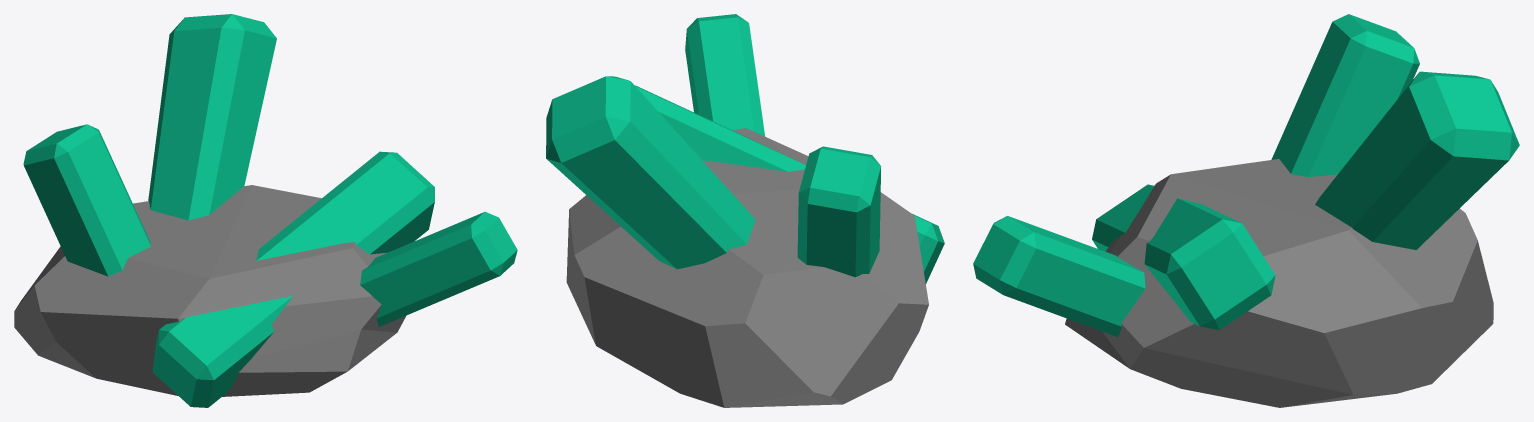
The model's file is MineralNode_14_C.fbx.
3 views of the same model, side by side, from view 1: azimuth 30°, elevation 25°; view 2: azimuth 150°, elevation 25°; view 3: azimuth 270°, elevation 25° (orthographic). The views are drawn at different scales.
Parts seen in each view (by area): view 1: MineralNode_14_C; view 2: MineralNode_14_C; view 3: MineralNode_14_C.
Boxes of the visible parts, x1,y1,x2,y2 form: MineralNode_14_C: [14, 14, 517, 407]; MineralNode_14_C: [546, 14, 944, 407]; MineralNode_14_C: [973, 14, 1519, 407].
Size of the model in its own units: 85.66 by 61.49 by 98.23.
